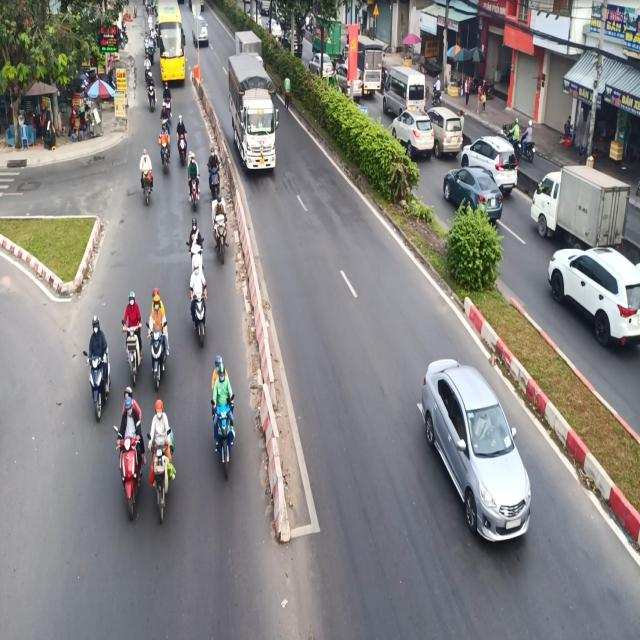bus: (154, 1, 187, 88)
car: (420, 350, 541, 556)
motor: (109, 374, 144, 505), (204, 352, 238, 476), (145, 398, 175, 519), (84, 308, 114, 415), (185, 259, 211, 345), (123, 289, 144, 386), (146, 283, 166, 380)
truck: (225, 55, 277, 188)
